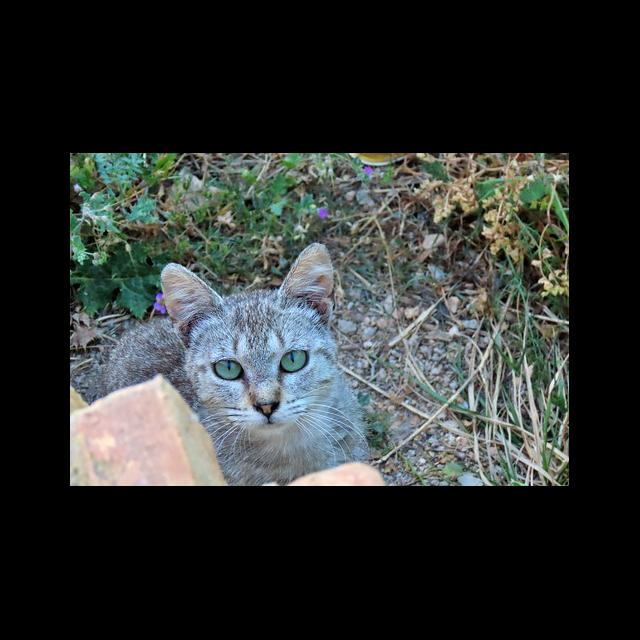animals: (103, 243, 368, 486)
